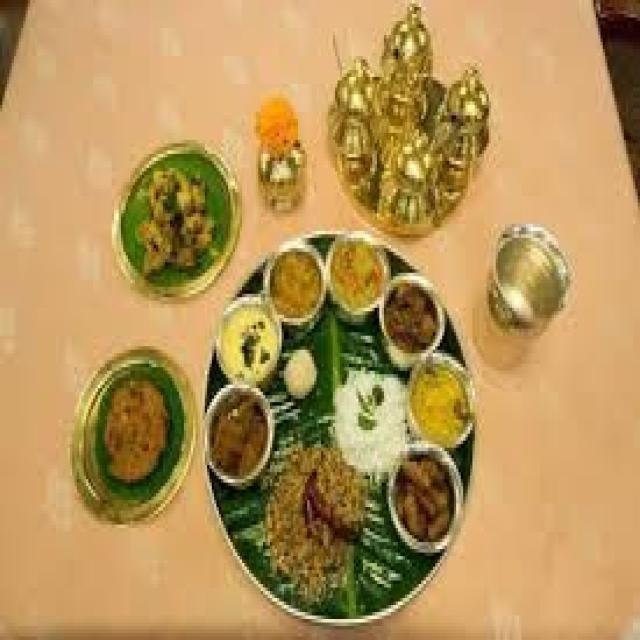dal: (262, 246, 332, 331), (407, 363, 473, 450)
pickle: (126, 164, 222, 287), (97, 383, 176, 483), (251, 102, 313, 227)
rice: (257, 437, 371, 585), (326, 361, 413, 484)
sambar-rasam: (265, 246, 327, 330)
veg-fry: (386, 452, 462, 551)
